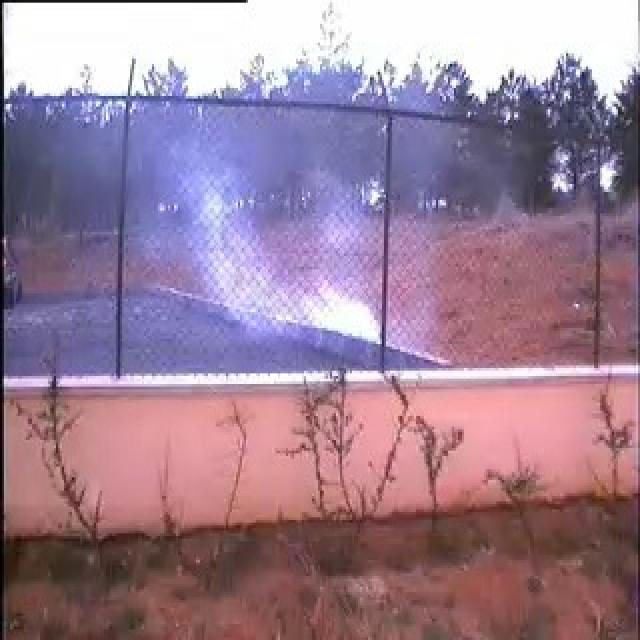smoke: (175, 127, 384, 326)
